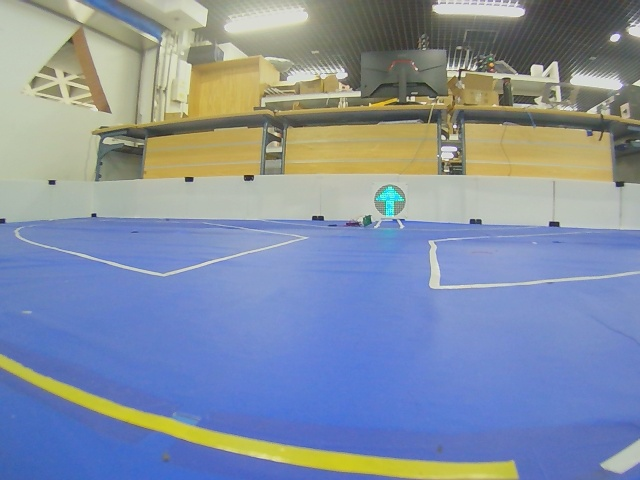straight_green: (374, 184, 406, 218)
